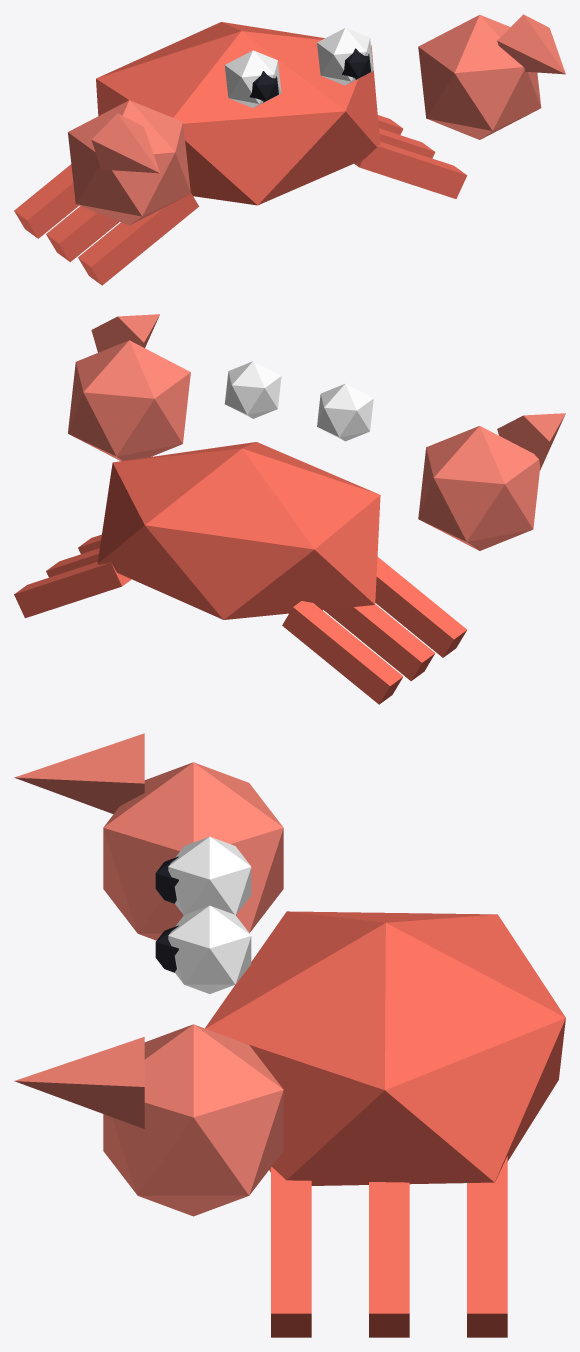
The model's file is BeachCrab.fbx.
3 views of the same model, one above another, from view 1: azimuth 30°, elevation 25°; view 2: azimuth 150°, elevation 25°; view 3: azimuth 270°, elevation 25° (orthographic). The views are drawn at different scales.
Parts seen in each view (by area): view 1: BeachCrab; view 2: BeachCrab; view 3: BeachCrab.
Boxes of the visible parts, box(x1,y1,x2,y2) form: BeachCrab: box(14, 14, 565, 285); BeachCrab: box(14, 314, 565, 704); BeachCrab: box(14, 733, 565, 1337).
Bounding box in the file's own units: 4.97 × 2.26 × 3.38.
1 material, 1 textured.
